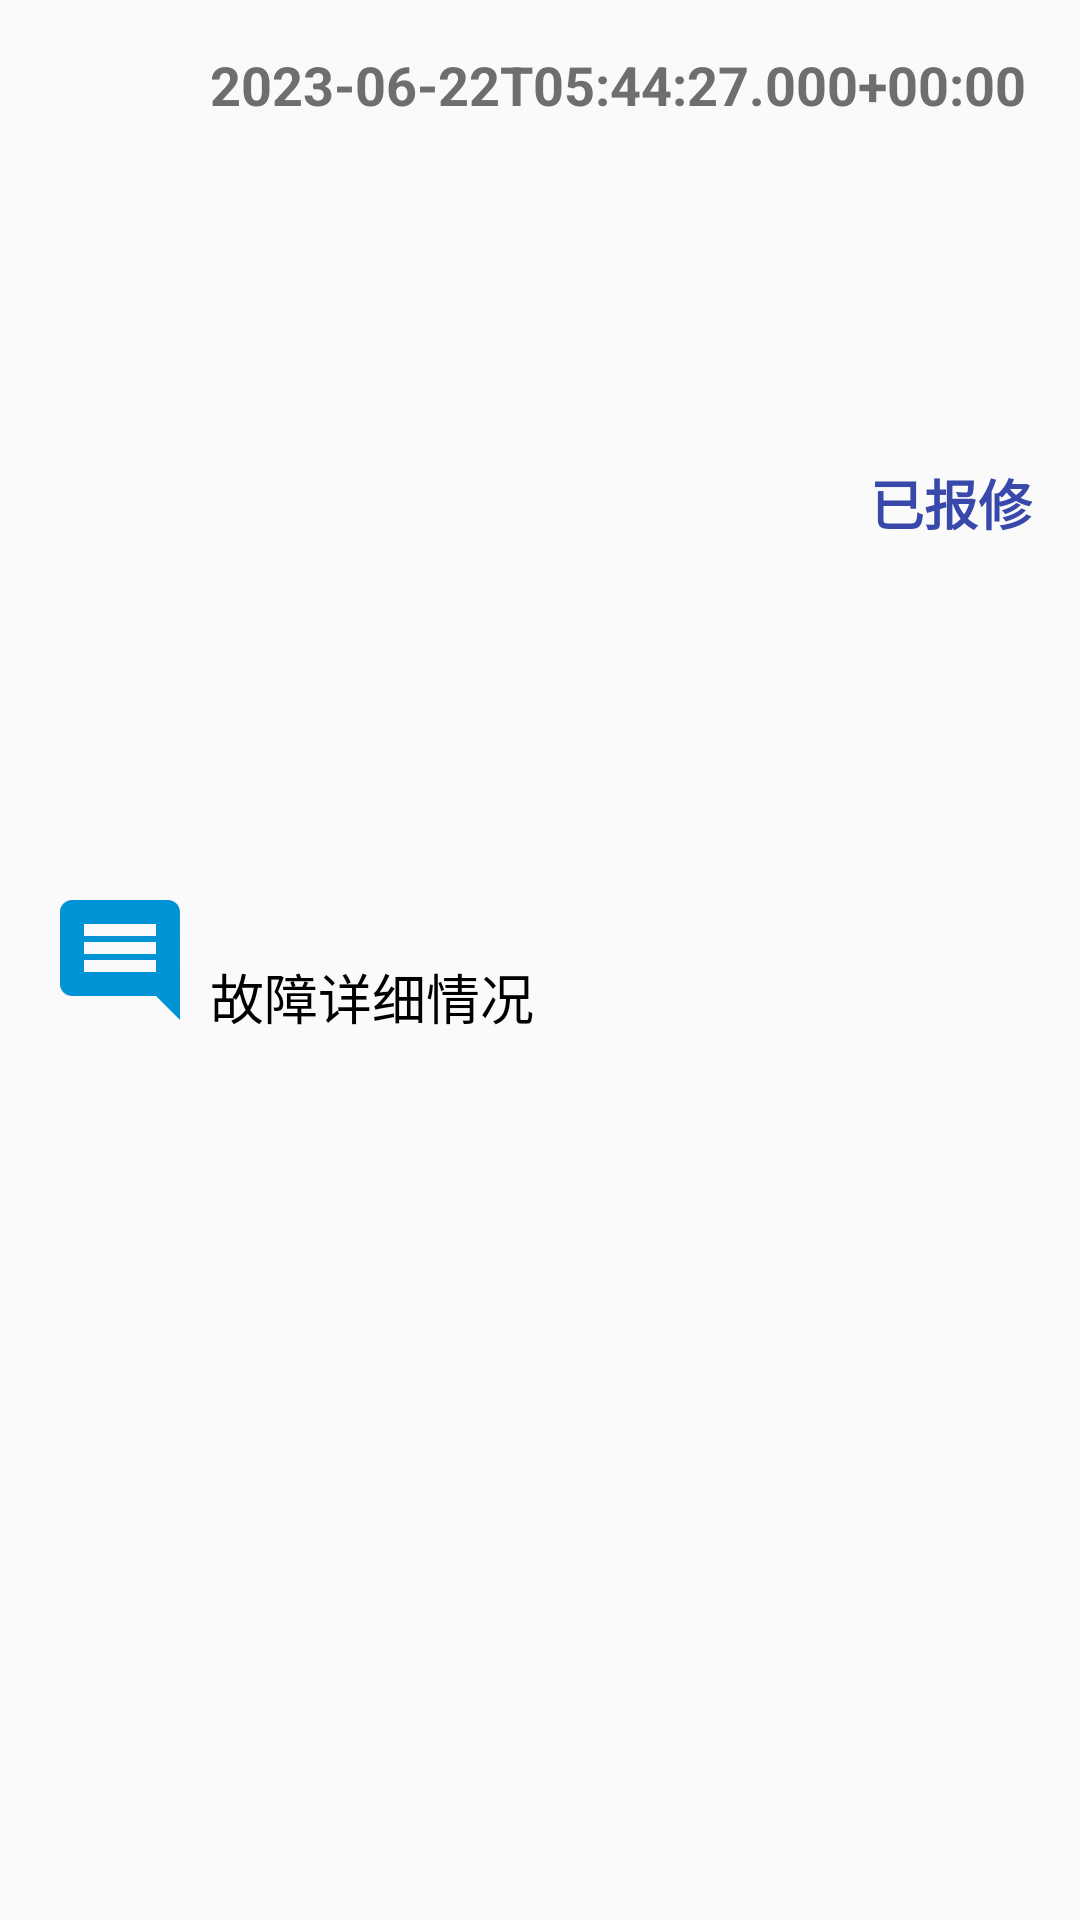

Named icons in this screenshot (1080px x 1920px) and their centers, point (x, y):
comment: point (120, 960)
